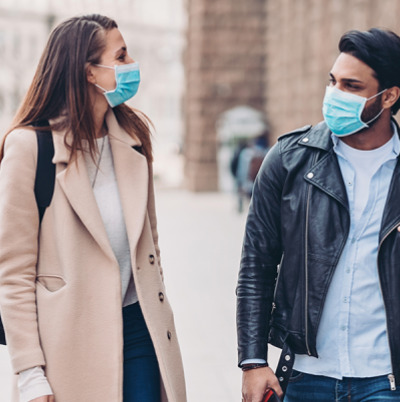Caution: (1, 13, 400, 400)
